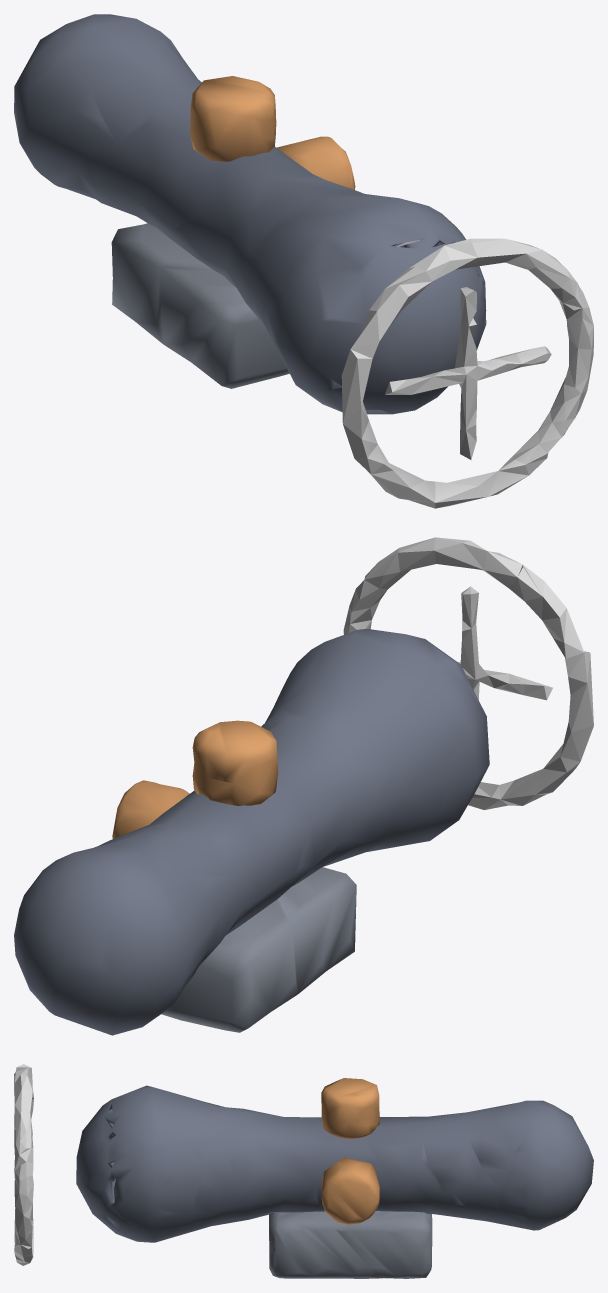
File: gear_cellule.glb
3 renders of one model, top to bottom at view 1: azimuth 30°, elevation 25°; view 2: azimuth 150°, elevation 25°; view 3: azimuth 270°, elevation 25°, orthographic. The views are drawn at different scales.
Visible parts, largest first — view 1: arm_l__cellule, arm_l__cellule_glow; view 2: arm_l__cellule, arm_l__cellule_glow; view 3: arm_l__cellule, arm_l__cellule_glow.
Boxes of the visible parts, x1,y1,x2,y2 form: arm_l__cellule: (14, 14, 486, 414); arm_l__cellule_glow: (341, 238, 593, 508); arm_l__cellule: (14, 629, 489, 1035); arm_l__cellule_glow: (343, 537, 593, 809); arm_l__cellule: (76, 1078, 593, 1278); arm_l__cellule_glow: (14, 1064, 33, 1265).
Bounding box in the file's own units: 0.1232 × 0.1258 × 0.3552.
